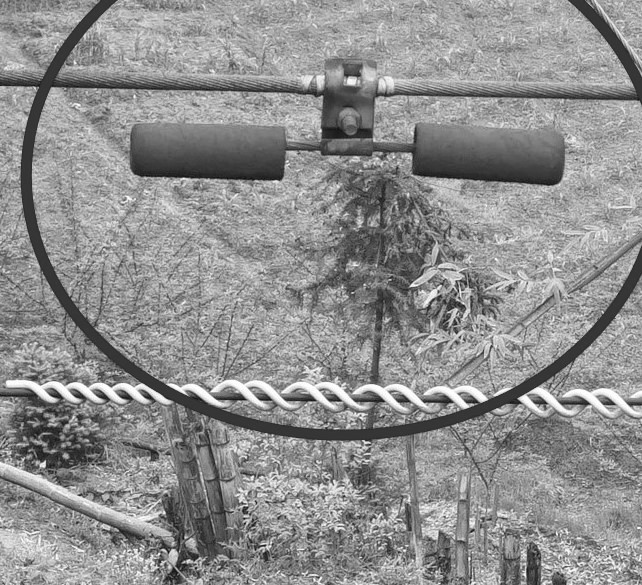Shockproof hammer: (119, 51, 575, 190)
